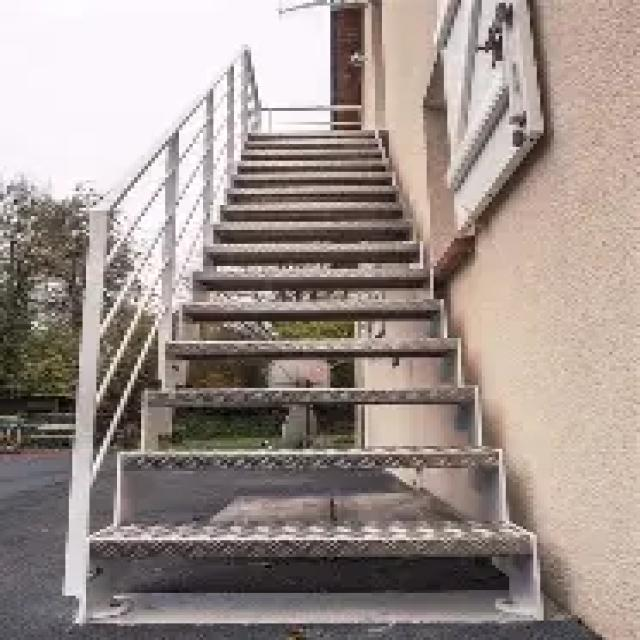Stairs: (56, 159, 569, 629)
